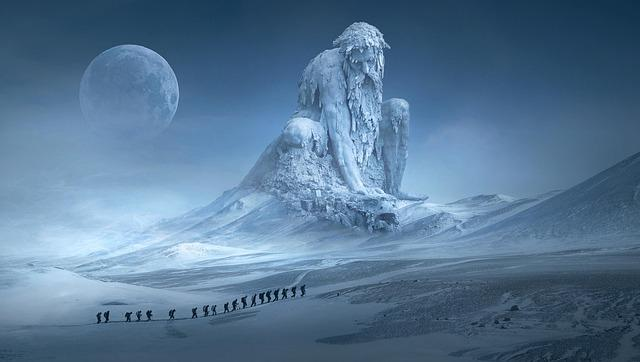Non_Gorille: (105, 16, 508, 266)
